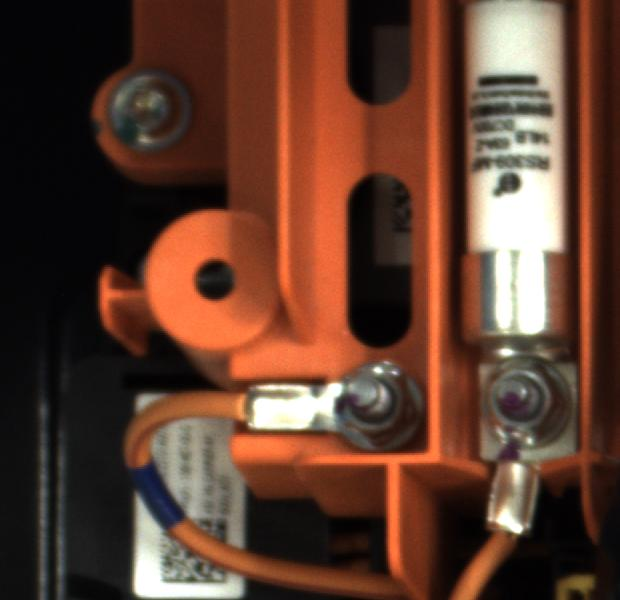screw_m: (97, 70, 207, 163)
screw_s: (320, 348, 423, 451), (477, 351, 573, 445)
